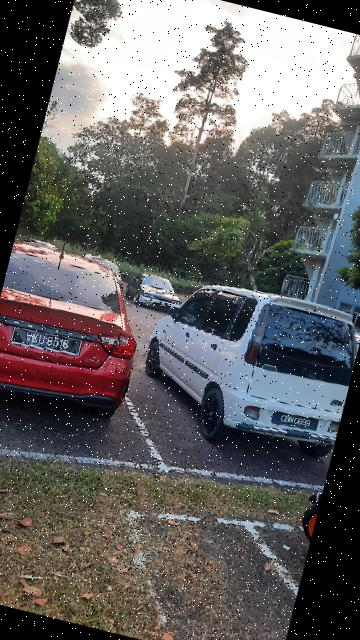License_Plate: (8, 325, 85, 362), (271, 408, 322, 434)
car: (125, 266, 360, 488), (1, 231, 162, 429)
